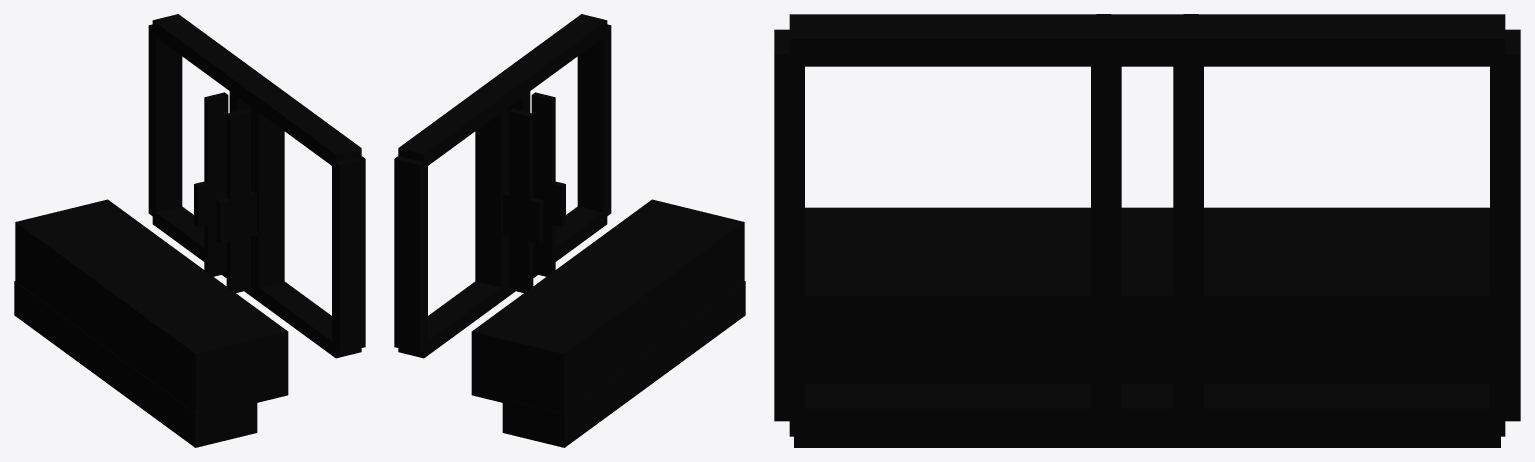
The model's file is bench_boots_4.obj.
3 views of the same model, side by side, from view 1: azimuth 30°, elevation 25°; view 2: azimuth 150°, elevation 25°; view 3: azimuth 270°, elevation 25° (orthographic). The views are drawn at different scales.
Visible parts, largest first — view 1: geometry; view 2: geometry; view 3: geometry.
Part boxes in pixels (x1,y1,x2,y2): geometry: (14,14,365,447); geometry: (394,14,745,447); geometry: (774,14,1520,447).
Size of the model in its own units: 0.1662 by 0.25 by 0.3331.
